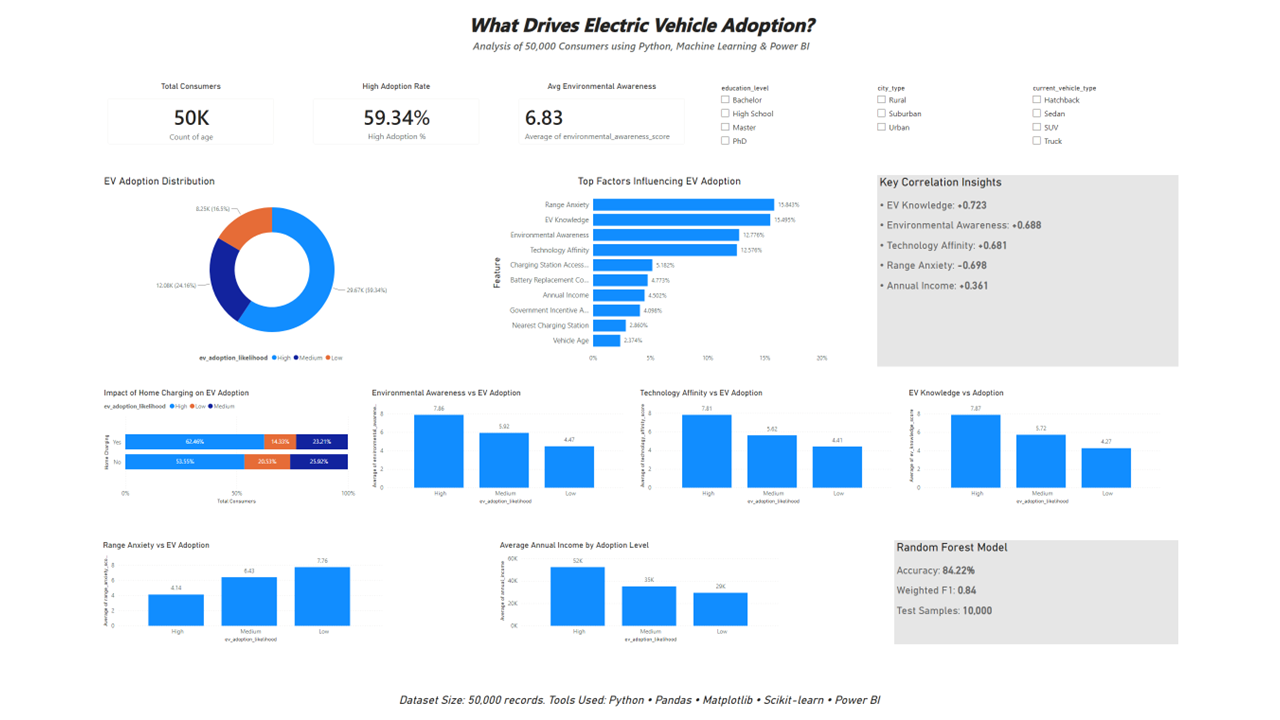

What the dashboard file says about the page in this screenshot:
{"tool":"powerbi","page":{"name":"Page 1","canvas":[2300,1500],"ordinal":0},"visuals":[{"type":"textbox","title":"What Drives Electric Vehicle Adoption?","box":[8.3,13.3,2291.7,95],"z":0},{"type":"cardVisual","title":"Total Consumers","fields":{"Data":["CountNonNull(ev_dataset.age)"]},"box":[10,162.5,385,150],"z":1000},{"type":"cardVisual","title":"High Adoption Rate","fields":{"Data":["ev_dataset.High Adoption %"]},"box":[443.5,162,385,150],"z":2000},{"type":"cardVisual","title":"Avg Environmental Awareness","fields":{"Data":["Avg(ev_dataset.environmental_awareness_score)"]},"box":[877,162,385,150],"z":3000},{"type":"donutChart","title":"EV Adoption Distribution","fields":{"Category":["ev_dataset.ev_adoption_likelihood"],"Y":["CountNonNull(ev_dataset.ev_adoption_likelihood)"]},"box":[13.2,360.5,720,405],"z":4000},{"type":"clusteredBarChart","title":"Top Factors Influencing EV Adoption","fields":{"Category":["Sheet1.Feature"],"Y":["Sum(Sheet1.Importance)"]},"box":[832.3,360.5,720,405],"z":5000},{"type":"hundredPercentStackedBarChart","title":"Impact of Home Charging on EV Adoption","fields":{"Series":["ev_dataset.ev_adoption_likelihood"],"Category":["ev_dataset.Home Charging"],"Y":["ev_dataset.Total Consumers"]},"box":[13.2,810.5,540,250],"z":6000},{"type":"clusteredColumnChart","title":"Environmental Awareness vs EV Adoption","fields":{"Category":["ev_dataset.ev_adoption_likelihood"],"Y":["Avg(ev_dataset.environmental_awareness_score)"]},"box":[579.8,810.5,540,250],"z":7000},{"type":"clusteredColumnChart","title":"Technology Affinity vs EV Adoption","fields":{"Category":["ev_dataset.ev_adoption_likelihood"],"Y":["Avg(ev_dataset.technology_affinity_score)"]},"box":[1146.5,810.5,540,250],"z":8000},{"type":"clusteredColumnChart","title":"EV Knowledge vs Adoption","fields":{"Category":["ev_dataset.ev_adoption_likelihood"],"Y":["Avg(ev_dataset.ev_knowledge_score)"]},"box":[1713.2,810.5,540,250],"z":9000},{"type":"clusteredColumnChart","title":"Range Anxiety vs EV Adoption","fields":{"Category":["ev_dataset.ev_adoption_likelihood"],"Y":["Avg(ev_dataset.range_anxiety_score)"]},"box":[12.5,1132.5,600,220],"z":10000},{"type":"clusteredColumnChart","title":"Average Annual Income by Adoption Level","fields":{"Category":["ev_dataset.ev_adoption_likelihood"],"Y":["Avg(ev_dataset.annual_income)"]},"box":[850,1132.5,600,220],"z":11000},{"type":"slicer","fields":{"Values":["ev_dataset.city_type"]},"box":[1639,162.5,280,150],"z":12000},{"type":"slicer","fields":{"Values":["ev_dataset.education_level"]},"box":[1310.5,162.5,280,150],"z":13000},{"type":"slicer","fields":{"Values":["ev_dataset.current_vehicle_type"]},"box":[1967.5,162.5,280,150],"z":14000},{"type":"textbox","title":"Key Correlation Insights","box":[1651.5,360.5,636.4,405],"z":15000},{"type":"textbox","title":"Random Forest Model","box":[1687.5,1132.5,600,220],"z":16000},{"type":"textbox","box":[47.4,1450,2202.6,84.2],"z":17000}]}

Visuals, with their boxes on the page's 2300x1500 design canvas (x1, y1, x2, y2). These are canvas units, not pixel positions in the 1280x720 screenshot, which may show the page scaled, cropped or inside an application window:
"What Drives Electric Vehicle Adoption?" textbox: (left=8, top=13, right=2300, bottom=108)
"Total Consumers" cardVisual: (left=10, top=162, right=395, bottom=312)
"High Adoption Rate" cardVisual: (left=444, top=162, right=828, bottom=312)
"Avg Environmental Awareness" cardVisual: (left=877, top=162, right=1262, bottom=312)
"EV Adoption Distribution" donutChart: (left=13, top=360, right=733, bottom=766)
"Top Factors Influencing EV Adoption" clusteredBarChart: (left=832, top=360, right=1552, bottom=766)
"Impact of Home Charging on EV Adoption" hundredPercentStackedBarChart: (left=13, top=810, right=553, bottom=1060)
"Environmental Awareness vs EV Adoption" clusteredColumnChart: (left=580, top=810, right=1120, bottom=1060)
"Technology Affinity vs EV Adoption" clusteredColumnChart: (left=1146, top=810, right=1686, bottom=1060)
"EV Knowledge vs Adoption" clusteredColumnChart: (left=1713, top=810, right=2253, bottom=1060)
"Range Anxiety vs EV Adoption" clusteredColumnChart: (left=12, top=1132, right=612, bottom=1352)
"Average Annual Income by Adoption Level" clusteredColumnChart: (left=850, top=1132, right=1450, bottom=1352)
slicer - ev_dataset.city_type: (left=1639, top=162, right=1919, bottom=312)
slicer - ev_dataset.education_level: (left=1310, top=162, right=1590, bottom=312)
slicer - ev_dataset.current_vehicle_type: (left=1968, top=162, right=2248, bottom=312)
"Key Correlation Insights" textbox: (left=1652, top=360, right=2288, bottom=766)
"Random Forest Model" textbox: (left=1688, top=1132, right=2288, bottom=1352)
textbox: (left=47, top=1450, right=2250, bottom=1534)
